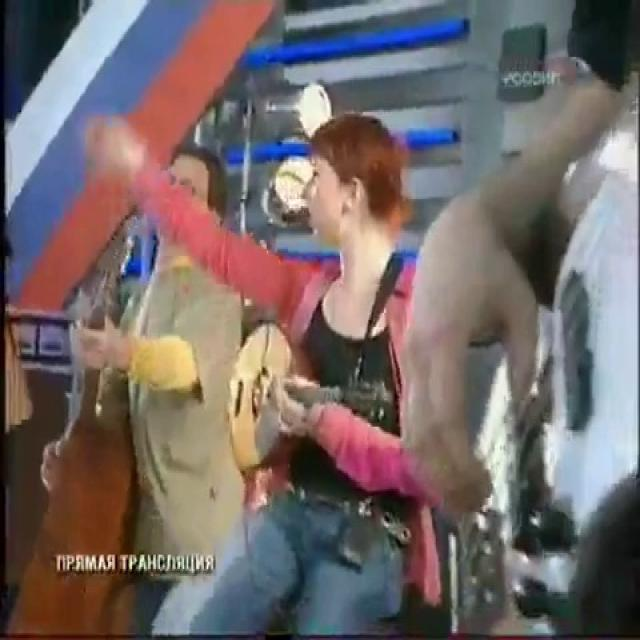Guitar: (412, 99, 640, 640)
